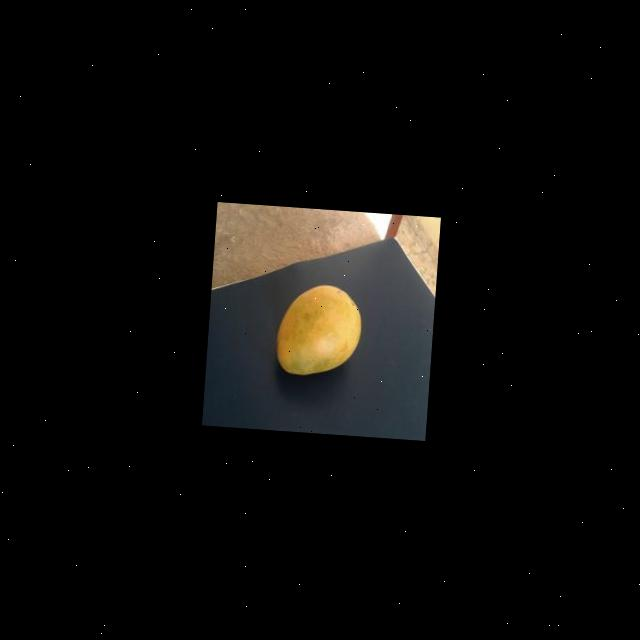Mango: (272, 279, 362, 378)
